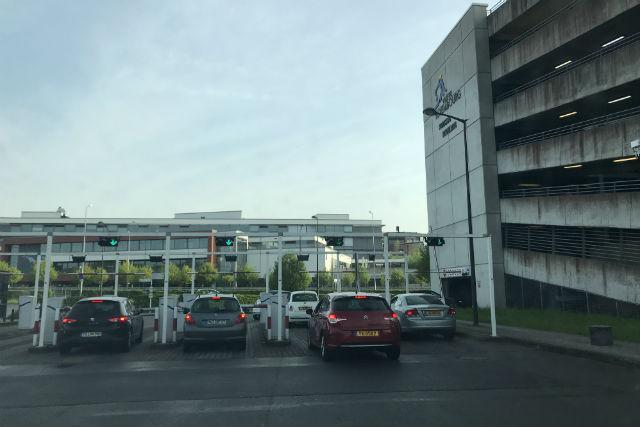car: (302, 290, 404, 363), (58, 296, 150, 359), (389, 290, 470, 348), (181, 290, 252, 355), (284, 288, 326, 324)
